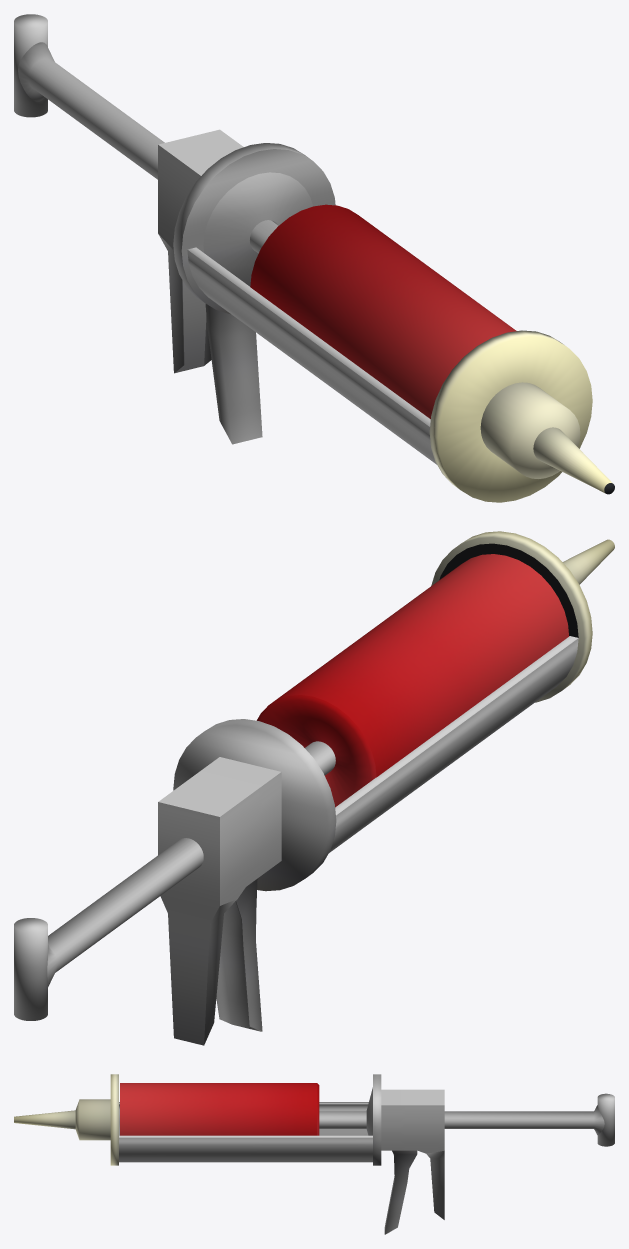
File: Gun_souse.fbx
3 renders of one model, top to bottom at view 1: azimuth 30°, elevation 25°; view 2: azimuth 150°, elevation 25°; view 3: azimuth 270°, elevation 25°, orthographic. The views are drawn at different scales.
Parts seen in each view (by area): view 1: sousegun; view 2: sousegun; view 3: sousegun.
Boxes of the visible parts, left/top/right/bottom form: sousegun: left=14, top=14, right=614, bottom=502; sousegun: left=14, top=531, right=614, bottom=1045; sousegun: left=14, top=1074, right=614, bottom=1234.
Size of the model in its own units: 820 by 1511 by 5391.
1 material, 1 textured.
